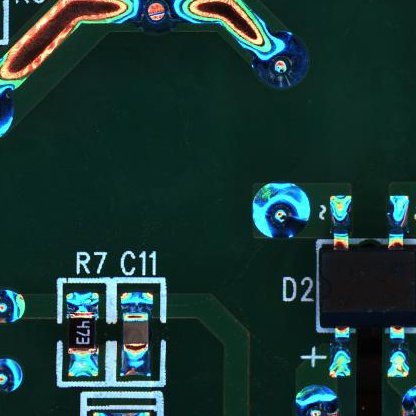spot: (248, 28, 312, 90), (249, 180, 311, 240), (128, 1, 187, 36)
